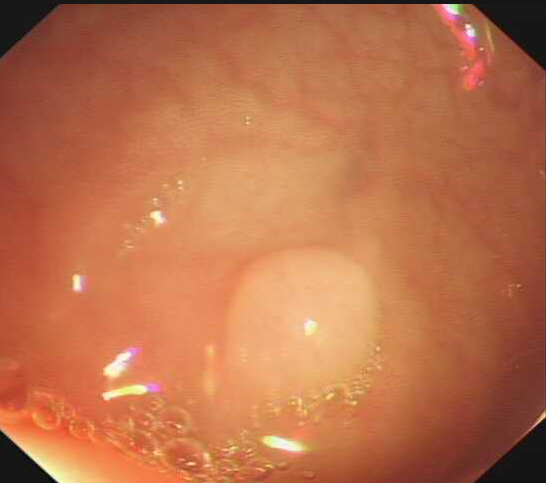adenoma: (211, 241, 384, 416)
